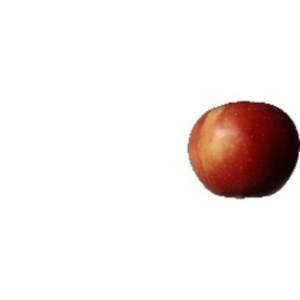maçã braeburn: (185, 99, 300, 201)
